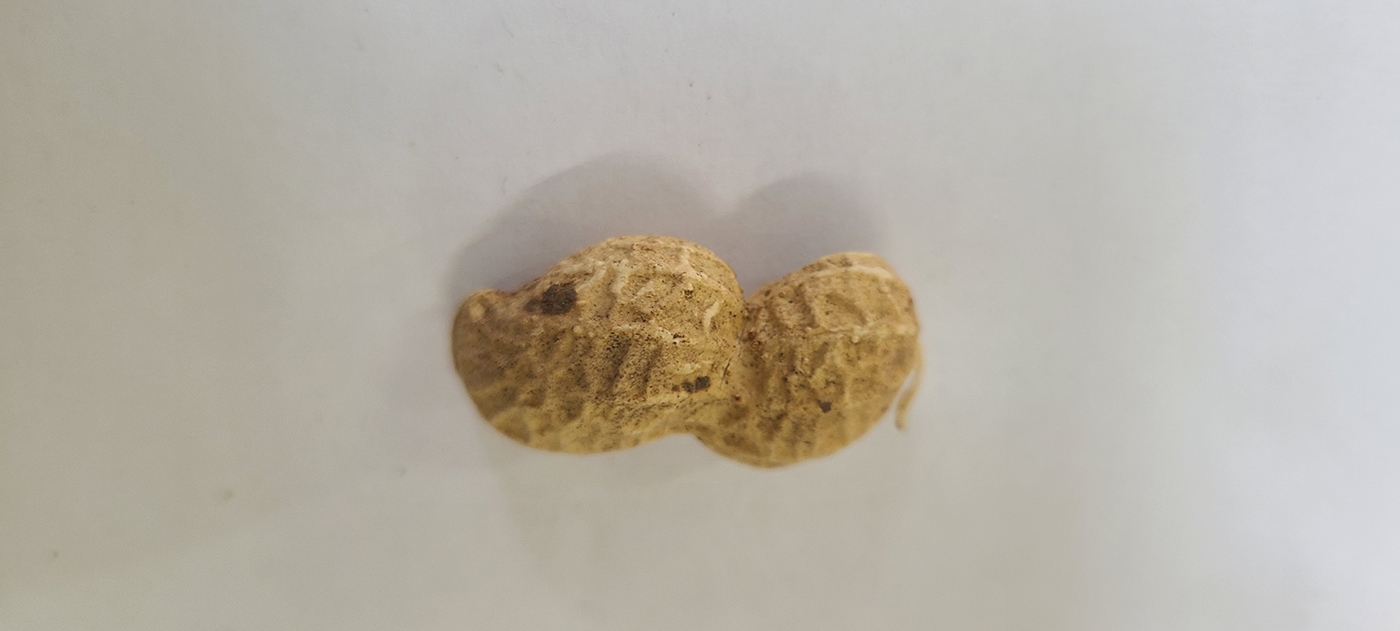h: (451, 230, 923, 473)
